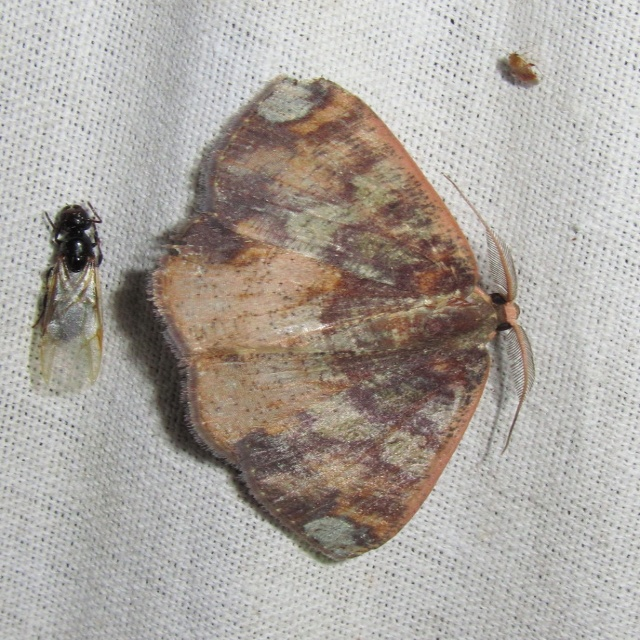Butterfly: (129, 76, 530, 556)
